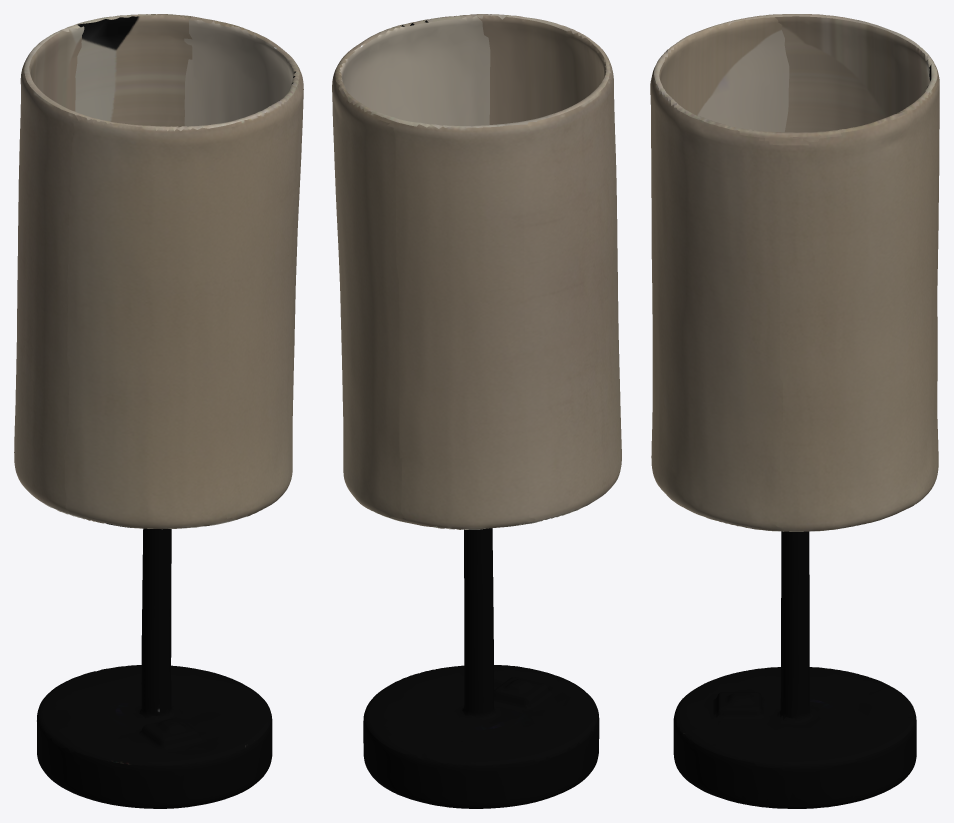
Rendered from testing__testing#1.glb.
The picture shows the model from 3 angles, left to right: view 1: azimuth 30°, elevation 25°; view 2: azimuth 150°, elevation 25°; view 3: azimuth 270°, elevation 25°; orthographic projection.
Parts seen in each view (by area): view 1: tmpwfggsedi.ply; view 2: tmpwfggsedi.ply; view 3: tmpwfggsedi.ply.
Boxes of the visible parts, bbox=[...] form: tmpwfggsedi.ply: bbox=[14, 14, 303, 808]; tmpwfggsedi.ply: bbox=[332, 14, 621, 808]; tmpwfggsedi.ply: bbox=[650, 14, 939, 808].
Bounding box in the file's own units: 0.7561 × 1.99 × 0.7514.
1 material, 1 textured.
